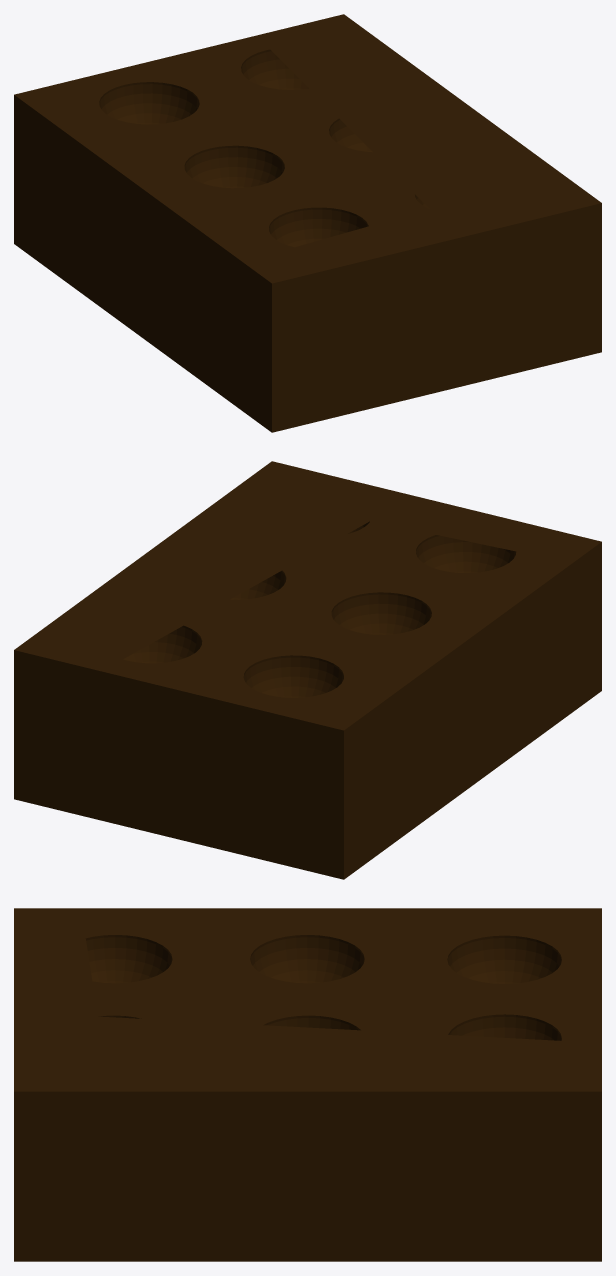
Rendered from takoyakiki.fbx.
3 views of the same model, one above another, from view 1: azimuth 30°, elevation 25°; view 2: azimuth 150°, elevation 25°; view 3: azimuth 270°, elevation 25° (orthographic). The views are drawn at different scales.
Visible parts, largest first — view 1: Cube; view 2: Cube; view 3: Cube.
Boxes of the visible parts, bbox=[...] form: Cube: bbox=[14, 14, 601, 432]; Cube: bbox=[14, 461, 601, 879]; Cube: bbox=[14, 908, 601, 1261].
Bounding box in the file's own units: 454 × 196 × 614.
